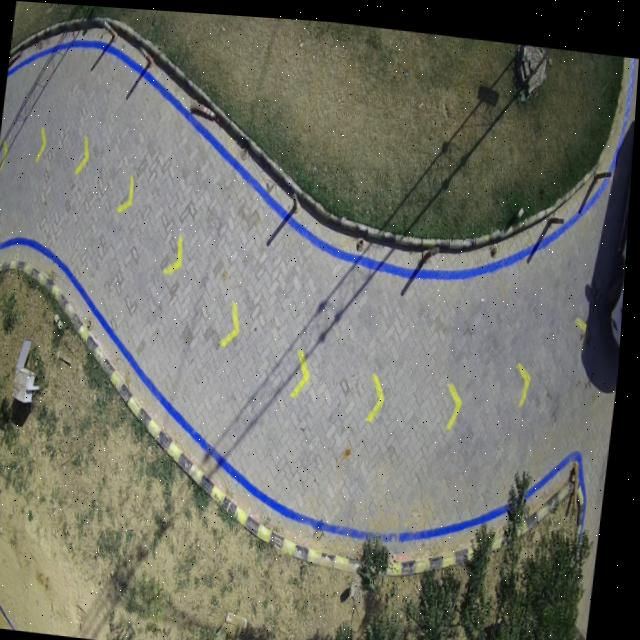car: (615, 274, 627, 337)
